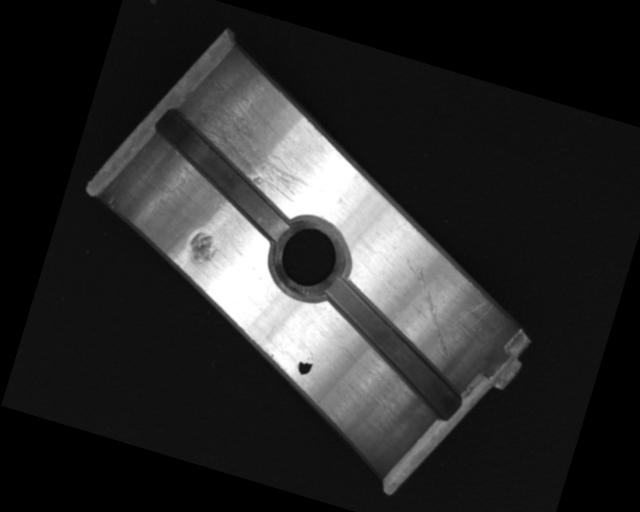blot: (295, 357, 314, 377)
bruise: (185, 228, 221, 267)
gap: (302, 275, 486, 423), (134, 104, 312, 241)
hole: (262, 207, 358, 309)
nick: (381, 255, 474, 359)
scratch: (171, 67, 352, 213)
